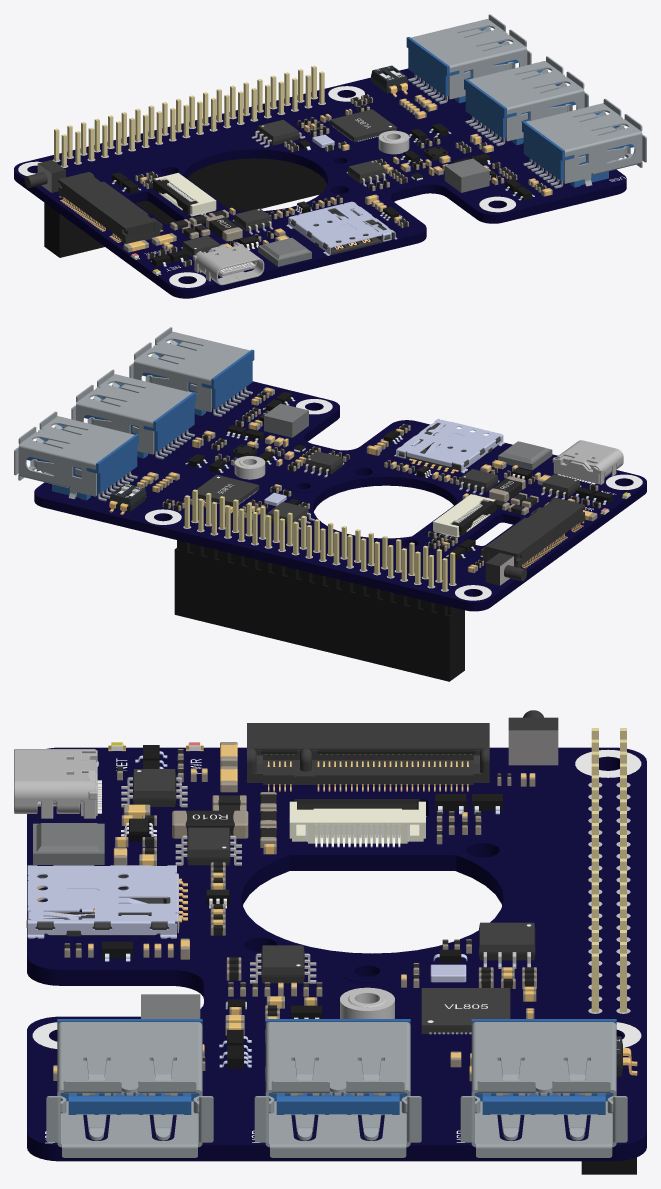
Rendered from raspberry_pi.glb.
3 renders of one model, top to bottom at view 1: azimuth 30°, elevation 25°; view 2: azimuth 150°, elevation 25°; view 3: azimuth 270°, elevation 25°, orthographic. The views are drawn at different scales.
Parts seen in each view (by area): view 1: SOLID, 40 pin header, Shielding (2), Shielding (1), Shielding, Connectors, SIM8066, USB C003, Housing (2), Housing, Housing (1), VL806 (+10 smaller); view 2: SOLID, 40 pin header, Shielding, Shielding (2), Shielding (1), Connectors, SIM8066, Housing, Housing (2), Housing (1), USB C003, VL806 (+10 smaller); view 3: SOLID, Shielding, Shielding (1), Shielding (2), Connectors, SIM8066, USB C003, 40 pin header, FPC-022, VL806, Housing (2), Housing (+11 smaller).
Part boxes in pixels (x1,y1,x2,y2): SOLID: (14,68,626,298); 40 pin header: (44,65,327,257); Shielding (2): (526,98,646,186); Shielding (1): (468,56,588,141); Shielding: (411,14,531,99); Connectors: (58,172,163,244); SIM8066: (286,201,397,255); USB C003: (194,242,264,285); Housing (2): (522,112,633,187); Housing: (406,27,518,103); Housing (1): (464,69,575,145); VL806: (329,109,396,142); SOLID: (34,381,646,611); 40 pin header: (174,489,464,681); Shielding: (14,411,134,499); Shielding (2): (129,327,249,412); Shielding (1): (71,369,191,454); Connectors: (480,497,585,568); SIM8066: (394,418,504,473); Housing: (27,425,138,500); Housing (2): (142,340,254,415); Housing (1): (84,383,196,458); USB C003: (553,440,623,484); VL806: (192,474,259,506); SOLID: (27,747,646,1161); Shielding: (460,1022,627,1157); Shielding (1): (254,1022,421,1157); Shielding (2): (46,1022,213,1157); Connectors: (247,723,489,791); SIM8066: (27,865,178,938); USB C003: (14,749,95,818); 40 pin header: (581,728,636,1174); FPC-022: (313,799,420,847); VL806: (421,988,510,1033); Housing (2): (57,1019,202,1115); Housing: (471,1019,616,1115).
Size of the model in its own units: 0.0906 by 0.0235 by 0.0572.
